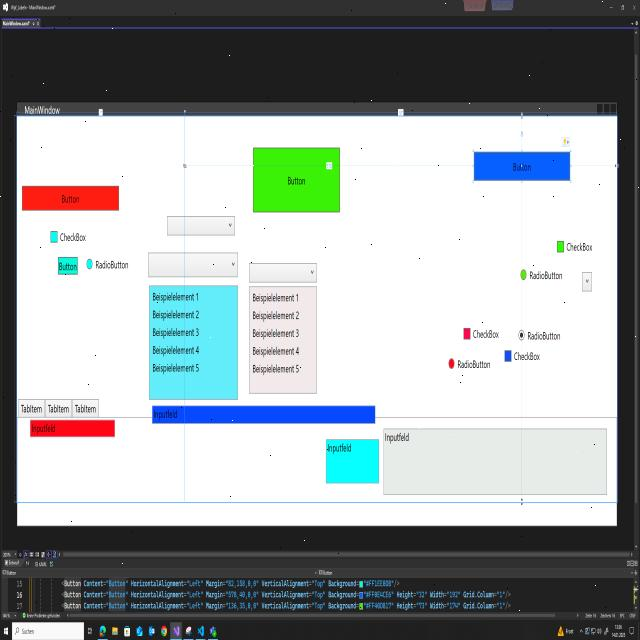button: (250, 142, 342, 216), (469, 146, 572, 182), (20, 178, 121, 214), (57, 254, 80, 277)
checkbox: (504, 349, 512, 363), (463, 327, 471, 340), (556, 240, 564, 253), (50, 231, 58, 243)
dropdownMenu: (147, 250, 239, 401), (248, 260, 318, 397), (166, 214, 236, 238), (581, 269, 593, 293)
input: (381, 423, 609, 498), (152, 403, 376, 426), (324, 436, 380, 485), (30, 419, 115, 438)
label: (96, 258, 130, 271), (529, 270, 564, 282), (457, 358, 491, 369), (60, 230, 88, 243), (527, 330, 561, 340), (514, 350, 540, 362), (566, 241, 594, 252), (473, 328, 500, 339)
menuItem: (152, 289, 202, 304), (252, 291, 301, 306), (152, 360, 201, 374), (252, 362, 300, 376), (152, 308, 201, 321), (252, 327, 300, 340), (252, 308, 300, 321), (152, 326, 200, 339), (151, 344, 201, 355), (252, 346, 300, 356)
radio: (448, 357, 456, 370), (86, 256, 93, 270), (520, 268, 527, 281), (518, 329, 525, 341)
tabControl: (17, 396, 46, 419), (72, 396, 100, 419), (43, 398, 73, 418)
